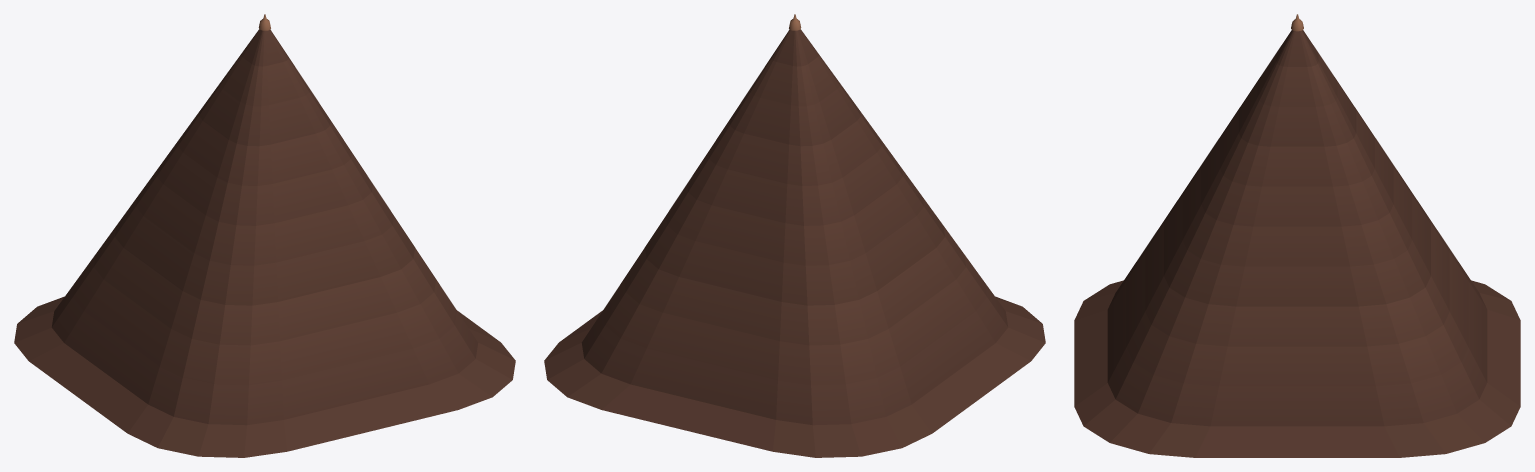
File: roof.spire_round.shingle.glb
3 renders of one model, left to right at view 1: azimuth 30°, elevation 25°; view 2: azimuth 150°, elevation 25°; view 3: azimuth 270°, elevation 25°, orthographic. The views are drawn at different scales.
Parts seen in each view (by area): view 1: roof_spire_round_shingle; view 2: roof_spire_round_shingle; view 3: roof_spire_round_shingle.
Boxes of the visible parts, <box> form: roof_spire_round_shingle: <box>14,14,515,457</box>; roof_spire_round_shingle: <box>544,14,1045,457</box>; roof_spire_round_shingle: <box>1074,14,1520,457</box>.
Size of what is drawn, in the model's own units: 17.36 by 15 by 17.36.
